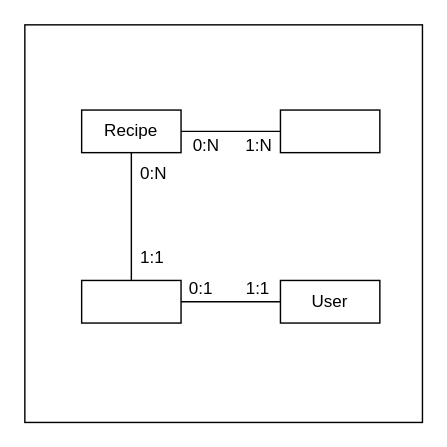
Some shapes in this 447 by 447 pixel diagram are drawn without their labels. Each missing label, with the centre of its shape:
"Autor" goes at (x=130, y=301).
"Ingredient" goes at (x=329, y=131).
